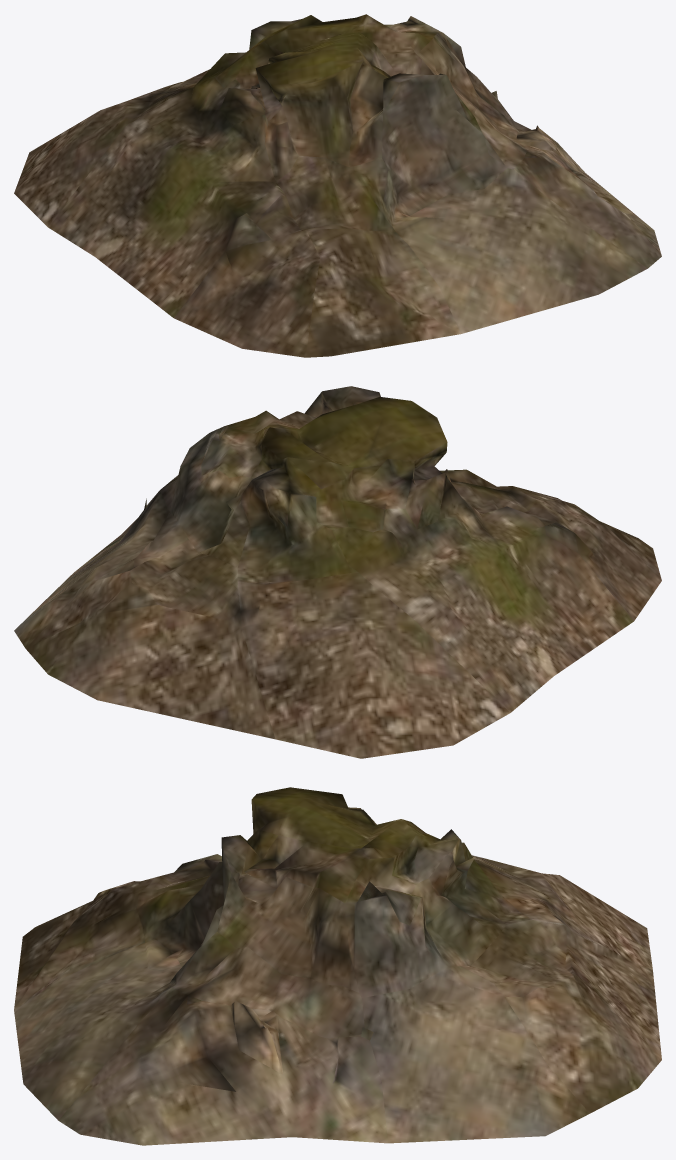
File: tree_stump_01.glb
3 views of the same model, one above another, from view 1: azimuth 30°, elevation 25°; view 2: azimuth 150°, elevation 25°; view 3: azimuth 270°, elevation 25° (orthographic). The views are drawn at different scales.
Parts seen in each view (by area): view 1: tree_stump_01; view 2: tree_stump_01; view 3: tree_stump_01.
Part boxes in pixels (x1=…): tree_stump_01: x1=14, y1=14, x2=661, y2=357; tree_stump_01: x1=14, y1=386, x2=661, y2=758; tree_stump_01: x1=14, y1=787, x2=661, y2=1145.
Size of the model in its own units: 1.42 by 0.5621 by 1.59.
1 material, 1 textured.
